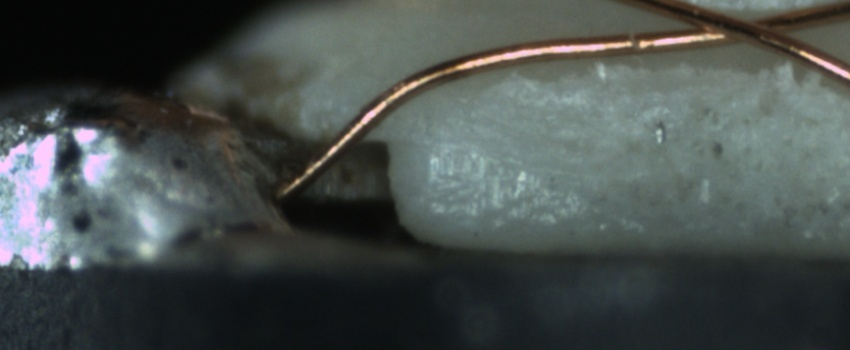CL: (645, 5, 818, 51)
DL: (422, 124, 493, 171)
